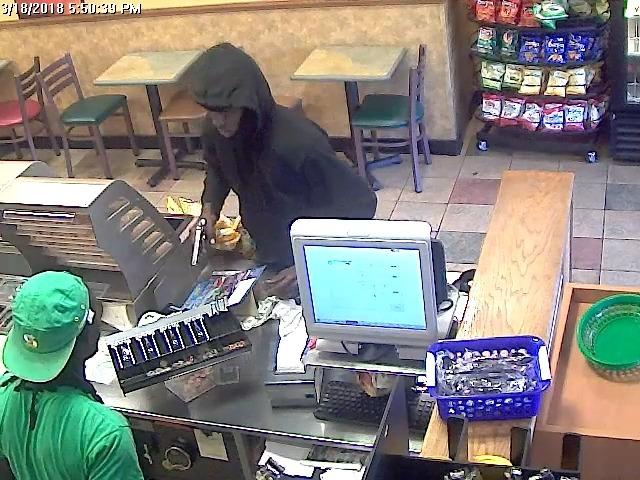weapon: (182, 218, 221, 269)
